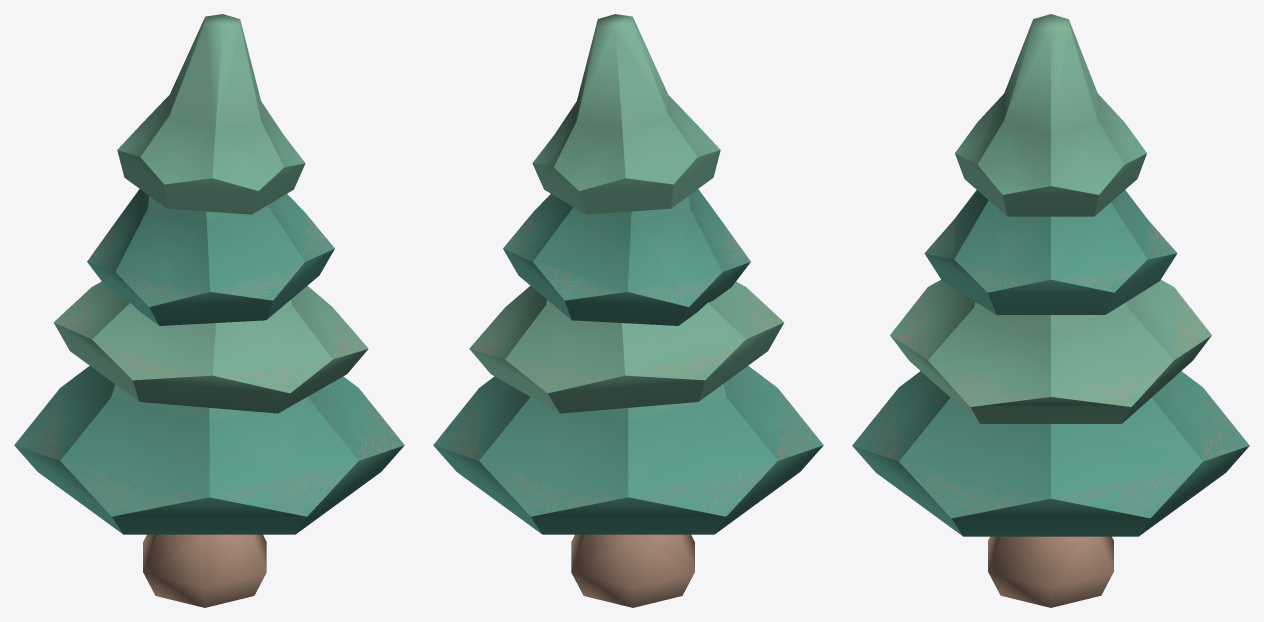
The model's file is kgy_pine-crooked.fbx.
3 renders of one model, left to right at view 1: azimuth 30°, elevation 25°; view 2: azimuth 150°, elevation 25°; view 3: azimuth 270°, elevation 25°, orthographic.
Visible parts, largest first — view 1: pine-crooked; view 2: pine-crooked; view 3: pine-crooked.
Part boxes in pixels (x1=…): pine-crooked: x1=14, y1=14, x2=404, y2=607; pine-crooked: x1=433, y1=14, x2=823, y2=607; pine-crooked: x1=852, y1=14, x2=1249, y2=607.
Size of the model in its own units: 118 by 211 by 133.
